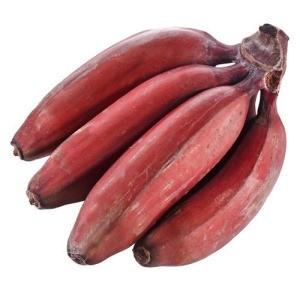banana_brain food: (71, 69, 256, 209)
